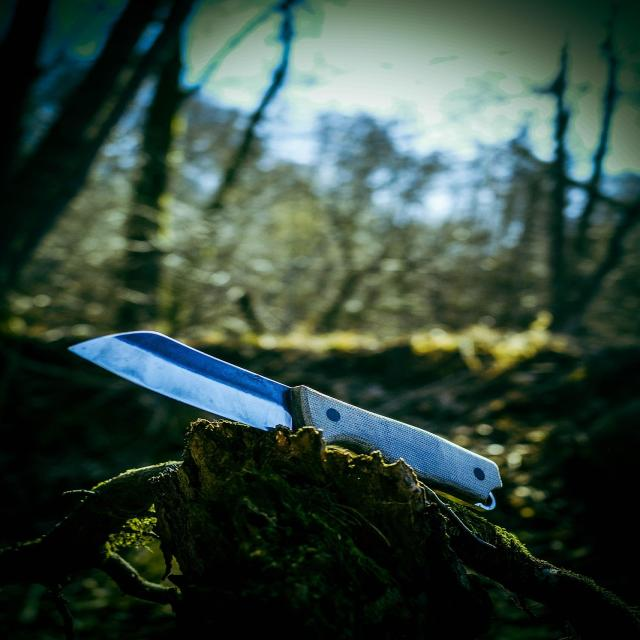Knife: (69, 332, 500, 510)
